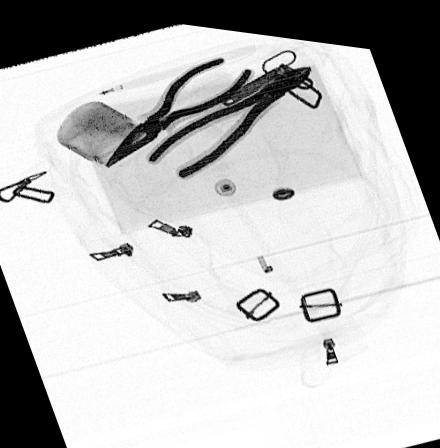Pliers: (145, 56, 313, 175), (103, 47, 256, 167)
